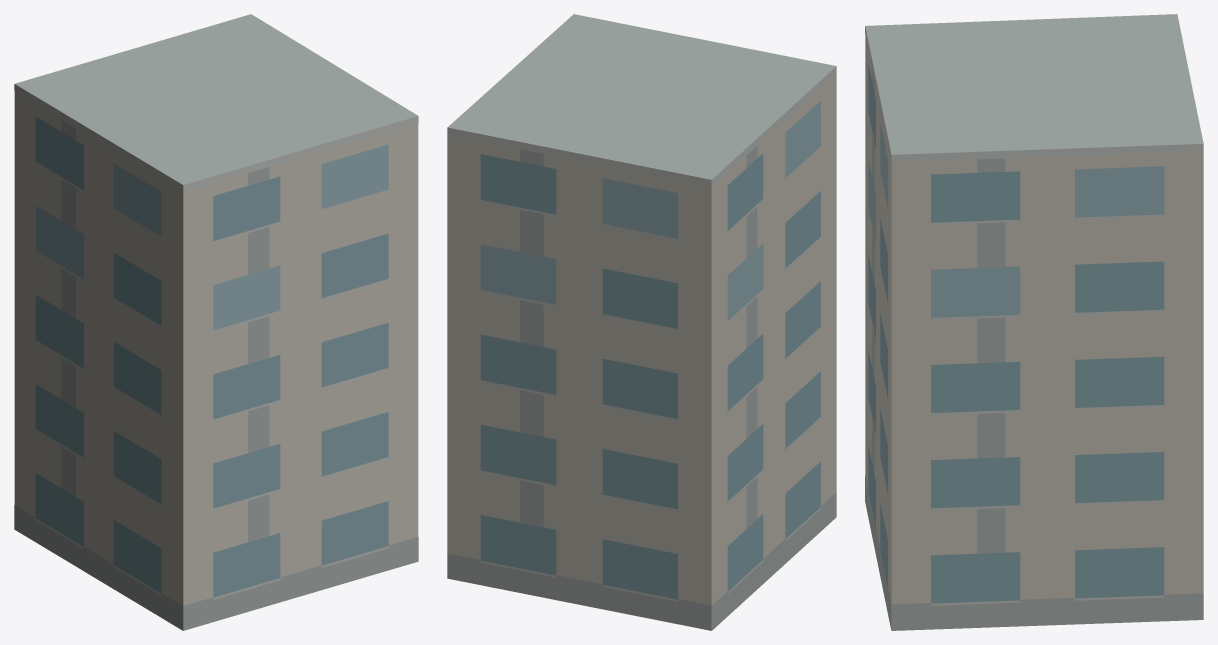
Rendered from survey-upis-32567879.glb.
3 views of the same model, side by side, from view 1: azimuth 30°, elevation 25°; view 2: azimuth 150°, elevation 25°; view 3: azimuth 270°, elevation 25° (orthographic). The views are drawn at different scales.
Visible parts, largest first — view 1: survey-upis-32567879.tmp; view 2: survey-upis-32567879.tmp; view 3: survey-upis-32567879.tmp.
Boxes of the visible parts, left/top/right/bottom form: survey-upis-32567879.tmp: left=14, top=14, right=418, bottom=630; survey-upis-32567879.tmp: left=447, top=14, right=836, bottom=630; survey-upis-32567879.tmp: left=865, top=14, right=1203, bottom=630.
Bounding box in the file's own units: 9.68 × 15.25 × 9.83.
